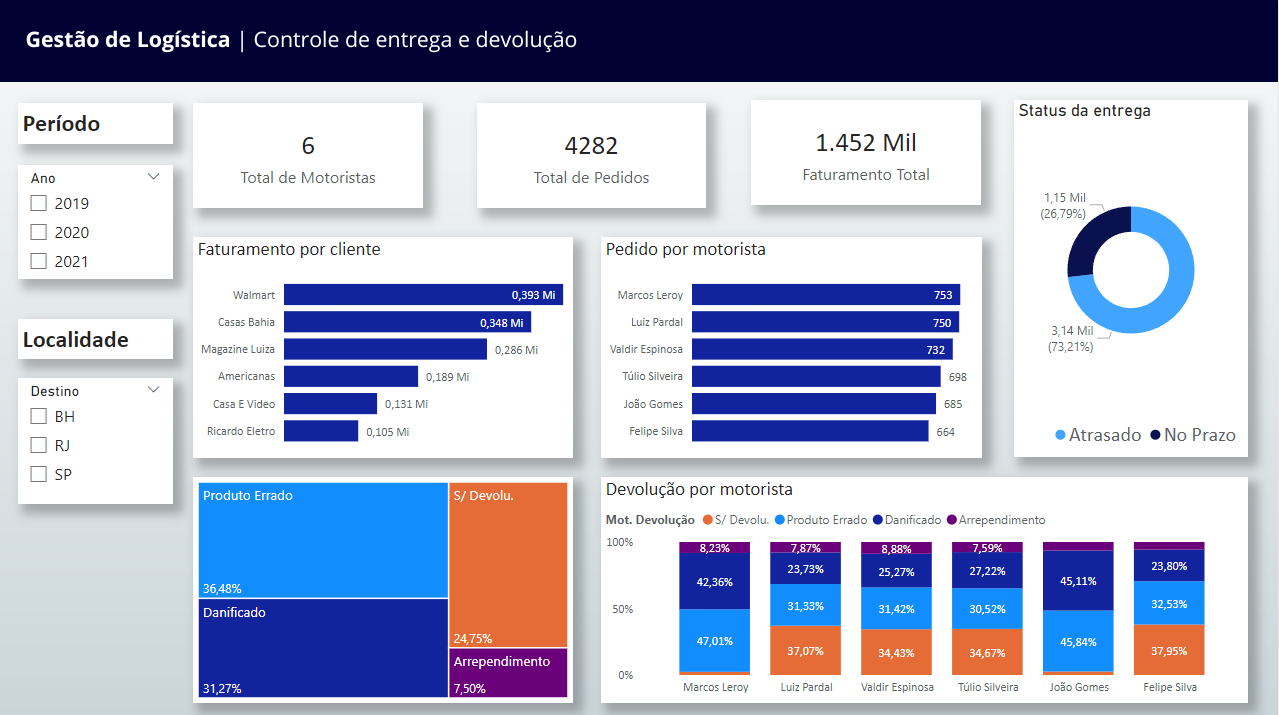

The dashboard page shown, as its layout file describes it:
{"tool":"powerbi","page":{"name":"Página 1","canvas":[1280,720],"ordinal":0},"visuals":[{"type":"card","fields":{"Values":["base_logistica.R$ Faturados"]},"box":[752.8,101.1,230.5,104.6],"z":1000},{"type":"card","fields":{"Values":["base_logistica.Nº Pedido"]},"box":[478.8,103.7,229.7,105.5],"z":2000},{"type":"card","fields":{"Values":["base_logistica.Motorista"]},"box":[195.1,103.7,229.7,105],"z":3000},{"type":"barChart","title":"Faturamento por cliente","fields":{"Category":["base_logistica.Cliente"],"Y":["base_logistica.R$ Faturados"]},"box":[194.8,237.9,380.5,220.9],"z":4000},{"type":"barChart","title":"Pedido por motorista","fields":{"Category":["base_logistica.Motorista"],"Y":["base_logistica.Nº Pedido"]},"box":[603.4,237.9,380.5,220.9],"z":5000},{"type":"textbox","box":[19.5,103.7,155.2,41.7],"z":6000},{"type":"slicer","fields":{"Values":["base_logistica.Data Emissão Pedido.Variation.Hierarquia de datas.Ano"]},"box":[19.5,165.8,155.2,114.4],"z":7000},{"type":"textbox","box":[19.5,320.1,155.2,39.9],"z":8000},{"type":"hundredPercentStackedColumnChart","title":"Devolução por motorista","fields":{"Category":["base_logistica.Motorista"],"Y":["base_logistica.Nº Pedido"],"Series":["base_logistica.Mot. Devolução"]},"box":[603,477.9,647.3,226.1],"z":9000},{"type":"donutChart","title":"Status da entrega","fields":{"Category":["base_logistica.Status"],"Y":["base_logistica.Nº Pedido"]},"box":[1016.2,101.1,234.1,357.3],"z":10000},{"type":"treemap","fields":{"Values":["base_logistica.Nº Pedido"],"Group":["base_logistica.Mot. Devolução"]},"box":[195.1,477.9,380.4,226.1],"z":11000},{"type":"slicer","fields":{"Values":["base_logistica.Destino"]},"box":[19.5,378.6,155.2,126.8],"z":12000}]}

Visuals, with their boxes in screenshot pixels (x1, y1, x2, y2), scaled from the page's 1280x720 canvas onto the 1279x715 screenshot:
card - base_logistica.R$ Faturados: 752,100,983,204
card - base_logistica.Nº Pedido: 478,103,708,208
card - base_logistica.Motorista: 195,103,424,207
"Faturamento por cliente" barChart: 195,236,575,456
"Pedido por motorista" barChart: 603,236,983,456
textbox: 19,103,175,144
slicer - base_logistica.Data Emissão Pedido.Variation.Hierarquia de datas.Ano: 19,165,175,278
textbox: 19,318,175,358
"Devolução por motorista" hundredPercentStackedColumnChart: 603,475,1249,699
"Status da entrega" donutChart: 1015,100,1249,455
treemap - base_logistica.Nº Pedido x base_logistica.Mot. Devolução: 195,475,575,699
slicer - base_logistica.Destino: 19,376,175,502
